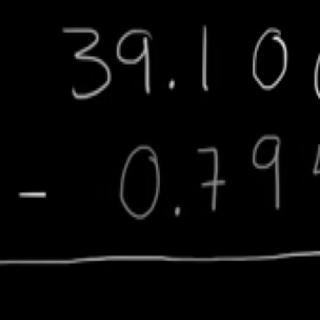.: (170, 198, 185, 219), (165, 72, 177, 93)
0: (118, 139, 162, 224), (245, 20, 291, 95)
1: (192, 16, 215, 95)
3: (56, 21, 113, 104)
7: (191, 142, 229, 219)
9: (239, 132, 287, 216), (113, 25, 157, 97)
